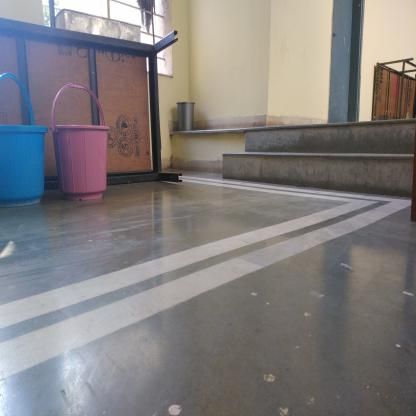stairs: (250, 120, 411, 194)
